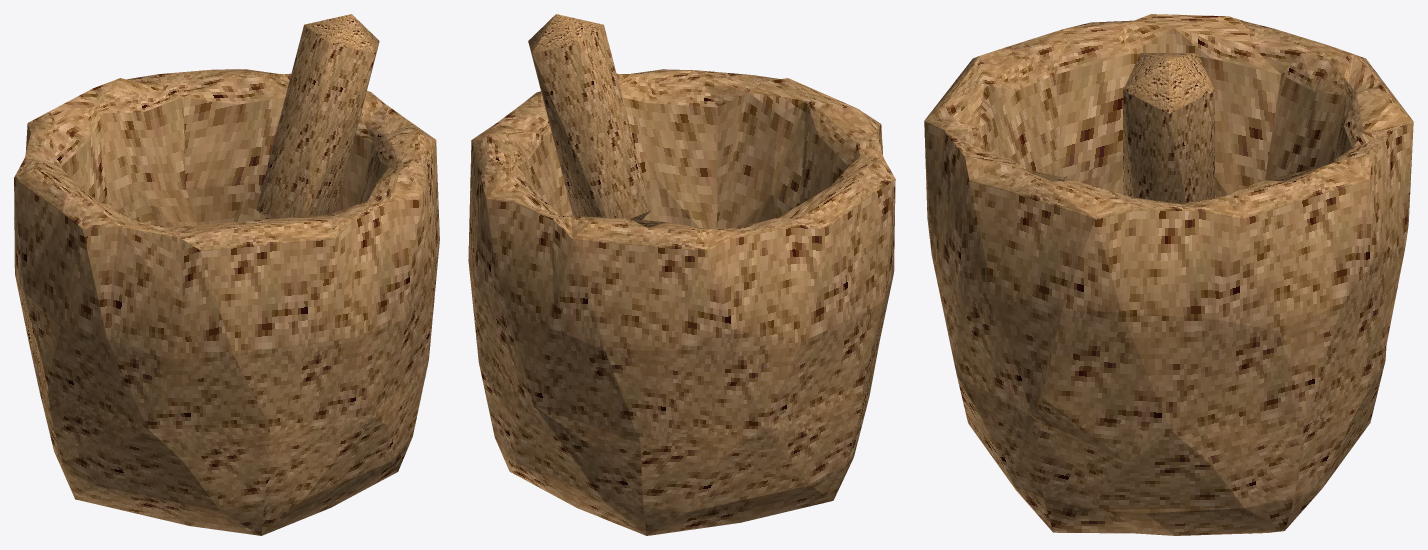
File: mortar.glb
3 renders of one model, left to right at view 1: azimuth 30°, elevation 25°; view 2: azimuth 150°, elevation 25°; view 3: azimuth 270°, elevation 25°, orthographic. The views are drawn at different scales.
Visible parts, largest first — view 1: Icosphere; view 2: Icosphere; view 3: Icosphere.
Boxes of the visible parts, x1,y1,x2,y2 form: Icosphere: (14, 14, 439, 535); Icosphere: (468, 14, 895, 535); Icosphere: (924, 14, 1413, 535).
Size of the model in its own units: 2.22 by 2.51 by 2.27.
Materials: 1 (1 with a texture image).
